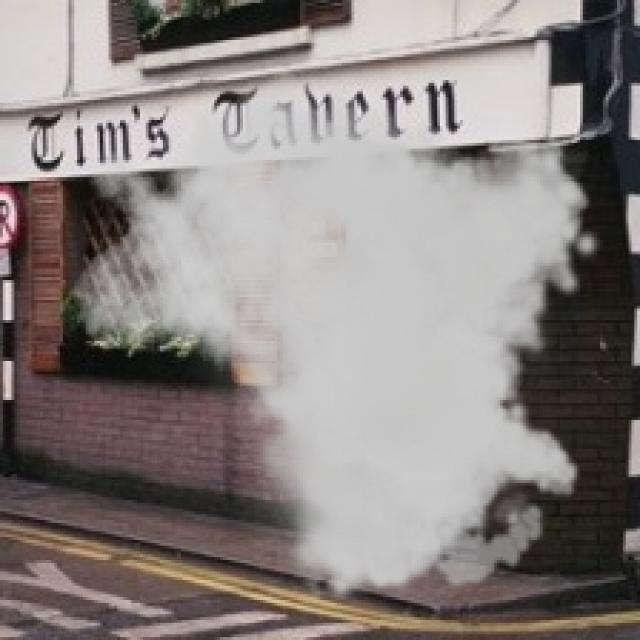Smoke: (71, 40, 603, 603)
